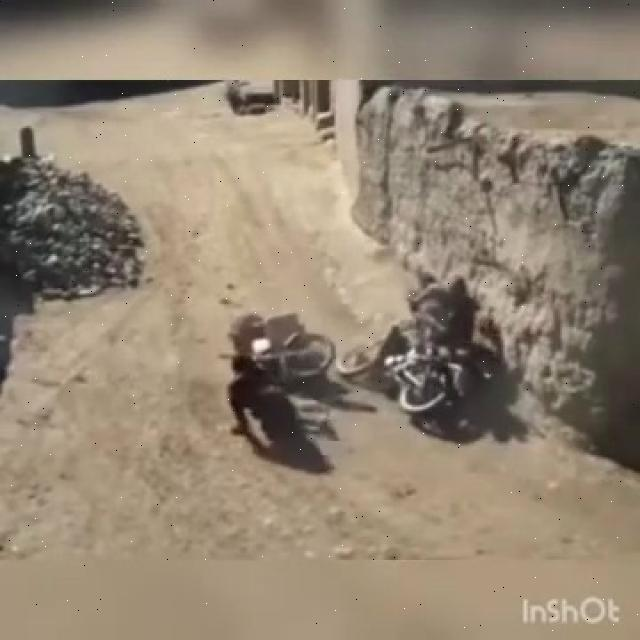accident: (340, 327, 493, 432), (217, 311, 349, 391)
